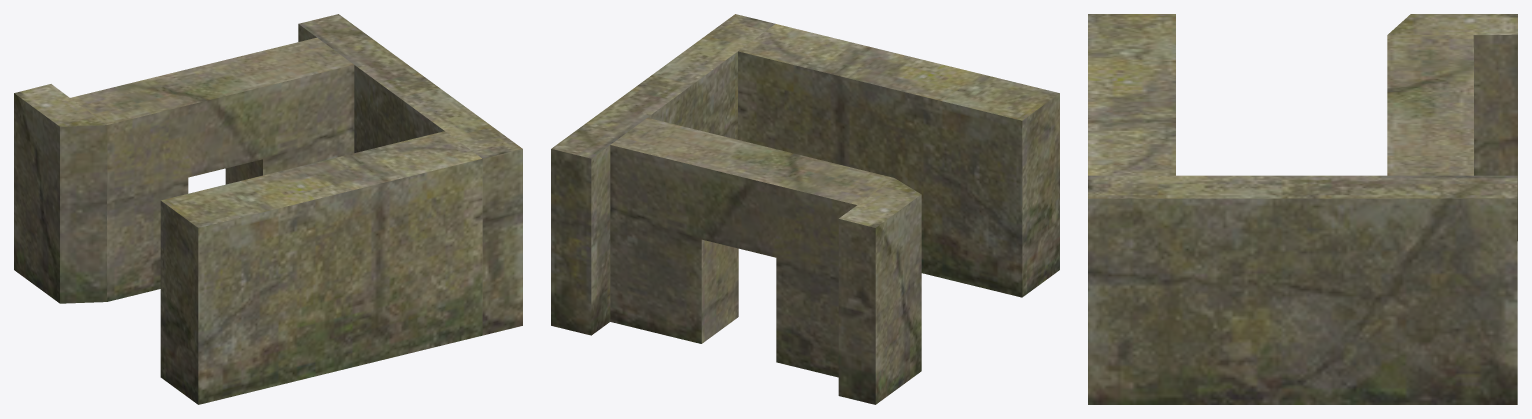
File: bg_eud_moray_sluice02_sm_kbw.FBX
3 views of the same model, side by side, from view 1: azimuth 30°, elevation 25°; view 2: azimuth 150°, elevation 25°; view 3: azimuth 270°, elevation 25° (orthographic). The views are drawn at different scales.
Visible parts, largest first — view 1: bg_eud_moray_sluice02_sm_kbw; view 2: bg_eud_moray_sluice02_sm_kbw; view 3: bg_eud_moray_sluice02_sm_kbw.
Boxes of the visible parts, x1,y1,x2,y2 form: bg_eud_moray_sluice02_sm_kbw: (14,14,522,404); bg_eud_moray_sluice02_sm_kbw: (551,14,1059,404); bg_eud_moray_sluice02_sm_kbw: (1088,14,1517,404).
Bounding box in the file's own units: 154 × 80.14 × 151.
